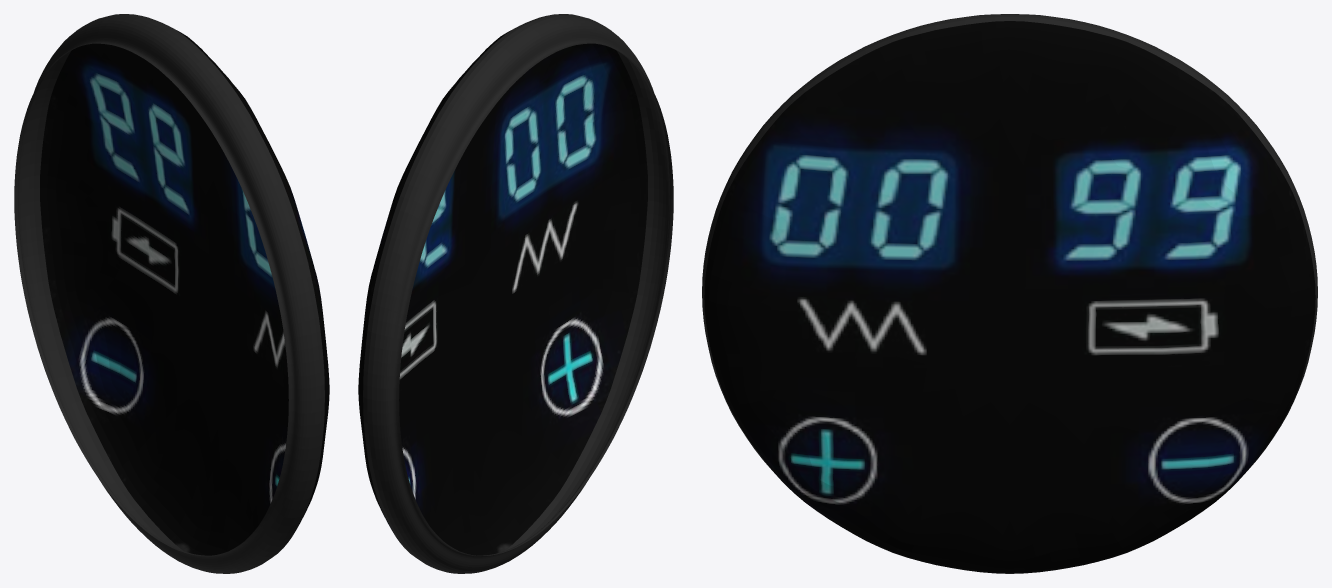
The model's file is gunPanel.glb.
3 renders of one model, left to right at view 1: azimuth 30°, elevation 25°; view 2: azimuth 150°, elevation 25°; view 3: azimuth 270°, elevation 25°, orthographic. The views are drawn at different scales.
Parts seen in each view (by area): view 1: panel; view 2: panel; view 3: panel.
Part boxes in pixels (x1,y1,x2,y2): panel: (14,14,329,573); panel: (358,14,673,573); panel: (702,14,1317,573).
Bounding box in the file's own units: 0.1014 × 0.7682 × 0.7716.
Materials: 1 (1 with a texture image).
